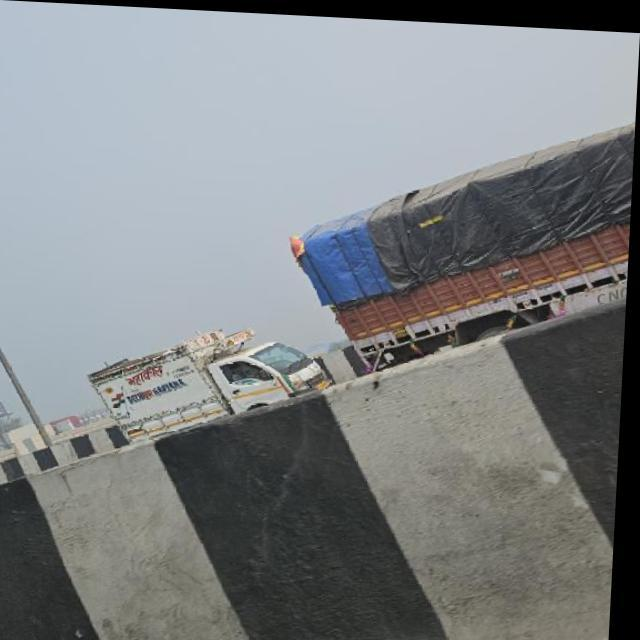covered: (259, 86, 638, 351)
